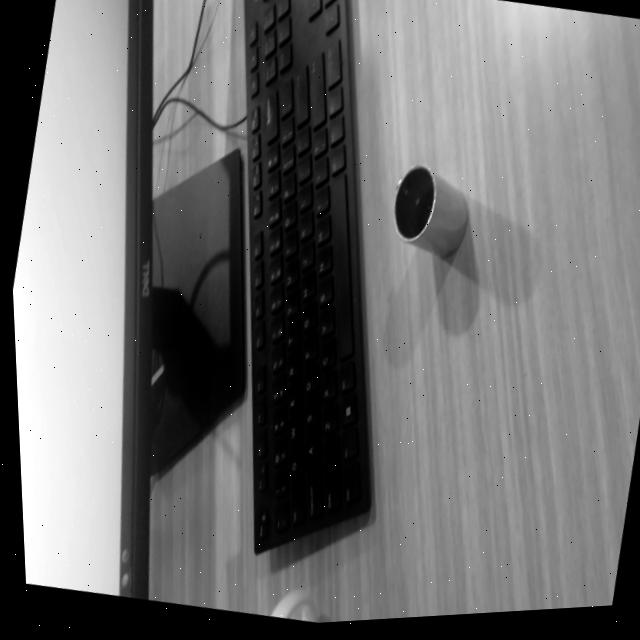Co_Lon: (377, 157, 485, 264)
